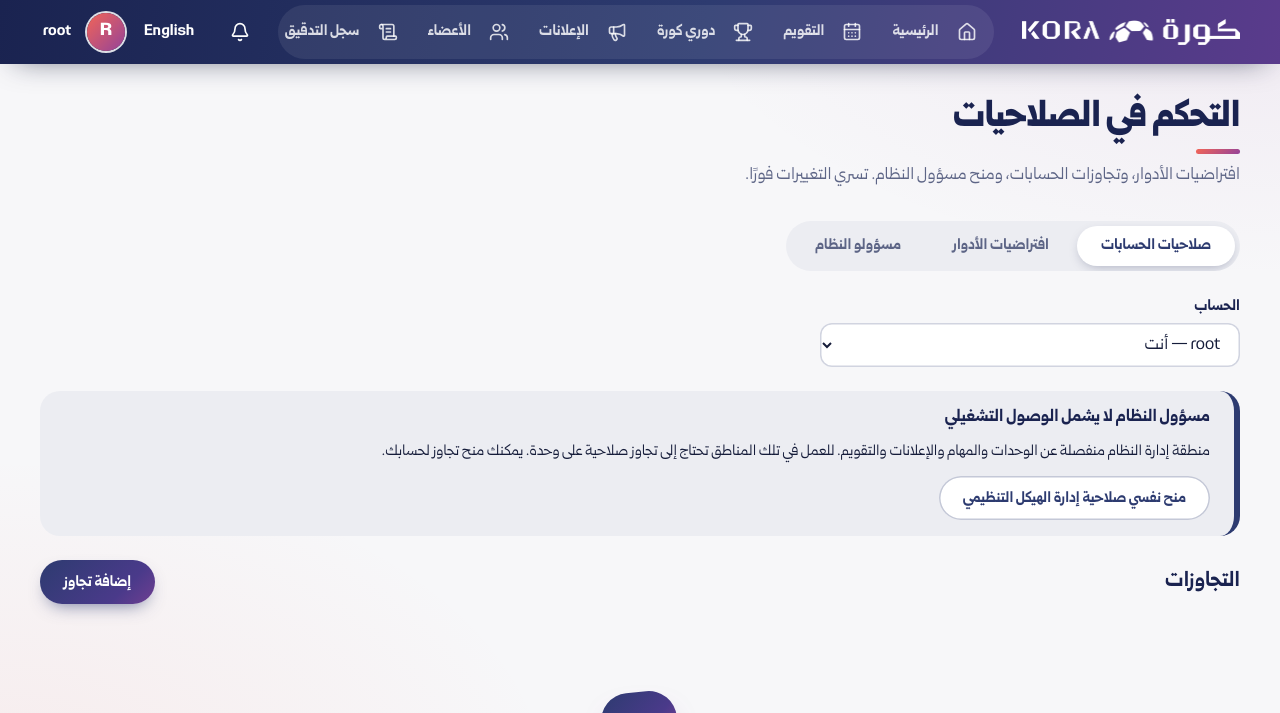
it: System Admin: access control › shows server business-rule errors inside the dialog
The width and height of the screenshot is (1280, 713).
Click the button "منح نفسي صلاحية إدارة الهيكل التنظيمي". click: (1074, 498)
box: x1=939 y1=476 x2=1210 y2=520
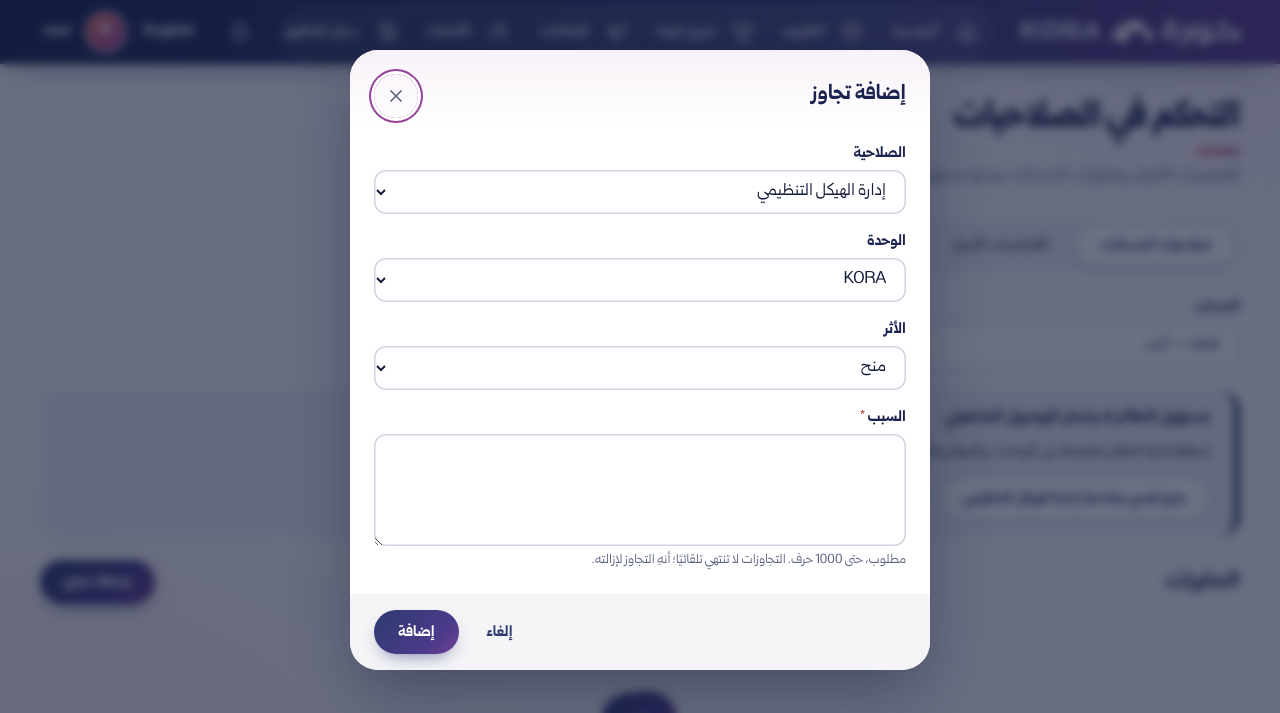
Type "again" into the text box labelled "السبب *". click: (640, 490)
box: x1=374 y1=434 x2=906 y2=546
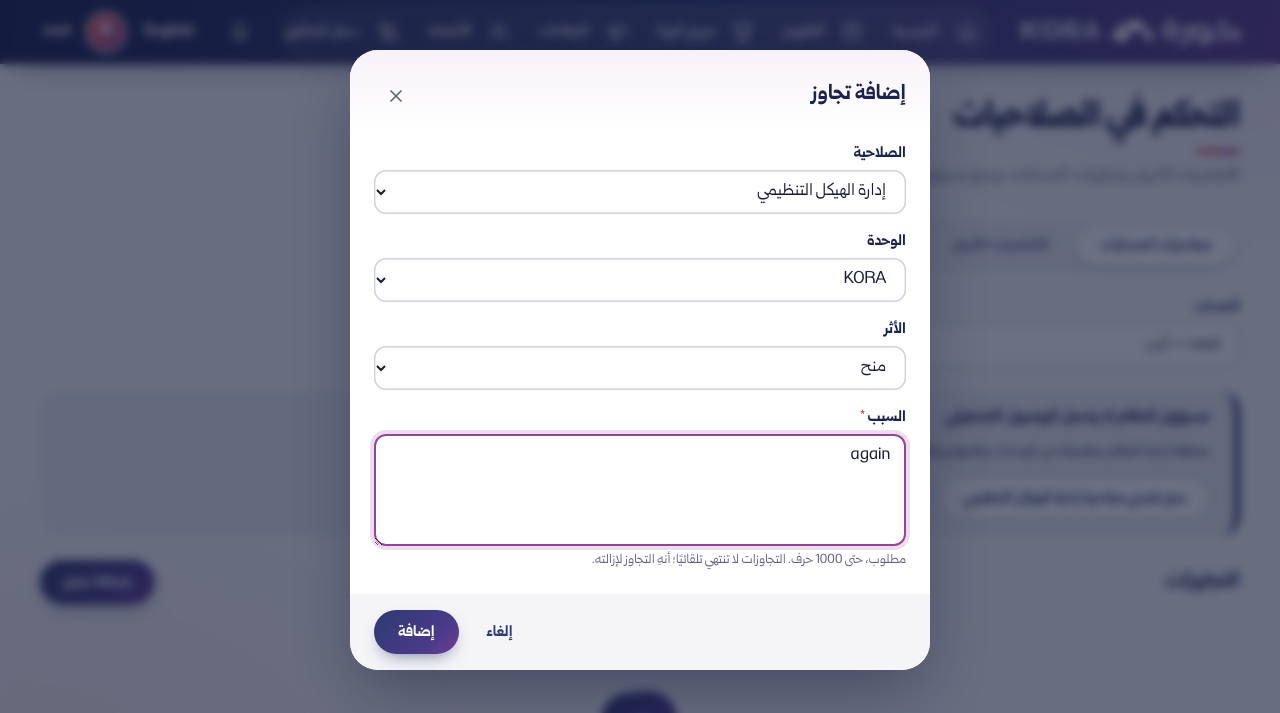
Click the button "إضافة". click: (416, 632)
box: x1=374 y1=610 x2=459 y2=654
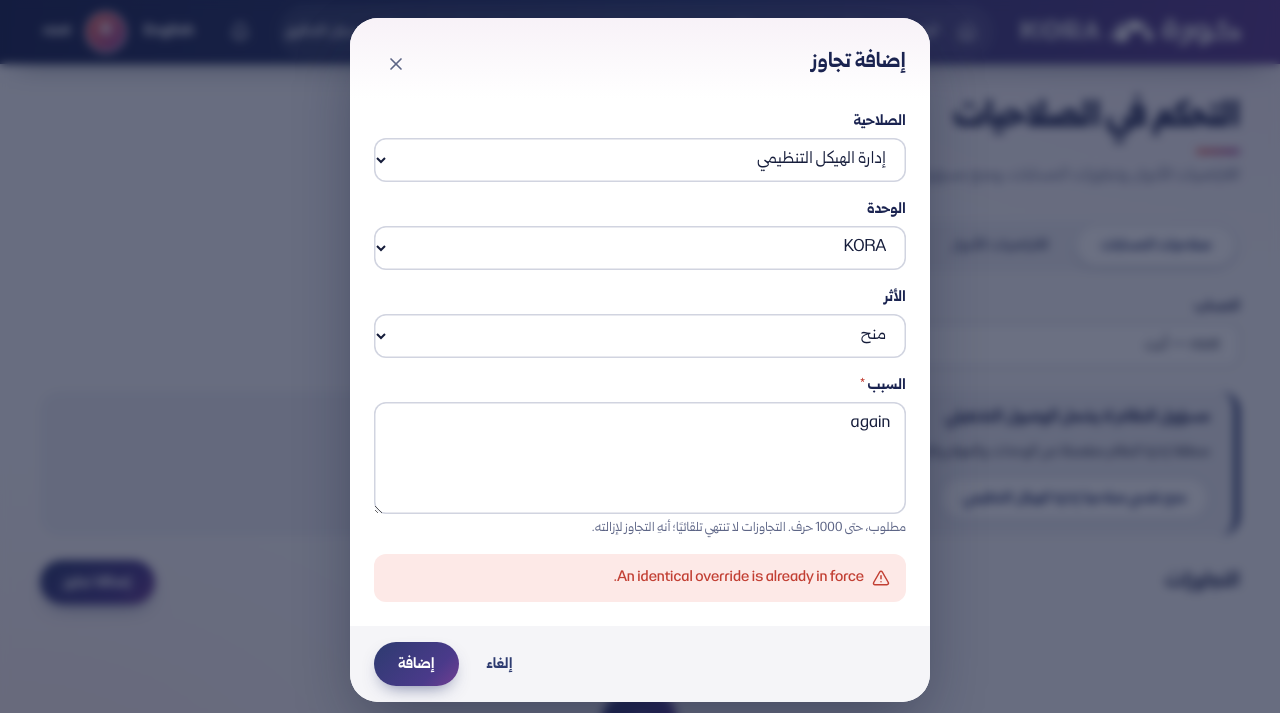
expect the message reads "An identical override is already in force.": met, box x1=614 y1=567 x2=864 y2=588
